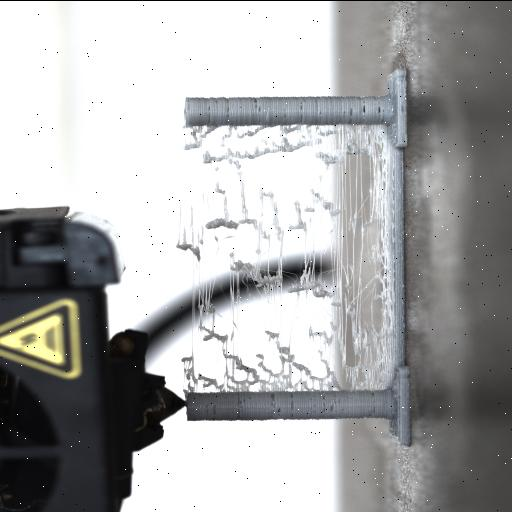stringing: (188, 124, 388, 388)
